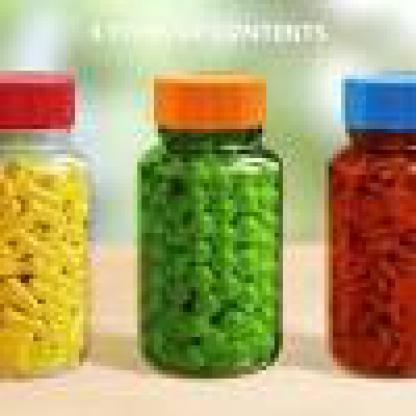jar: (137, 75, 283, 375), (0, 72, 87, 376), (331, 78, 416, 376)
